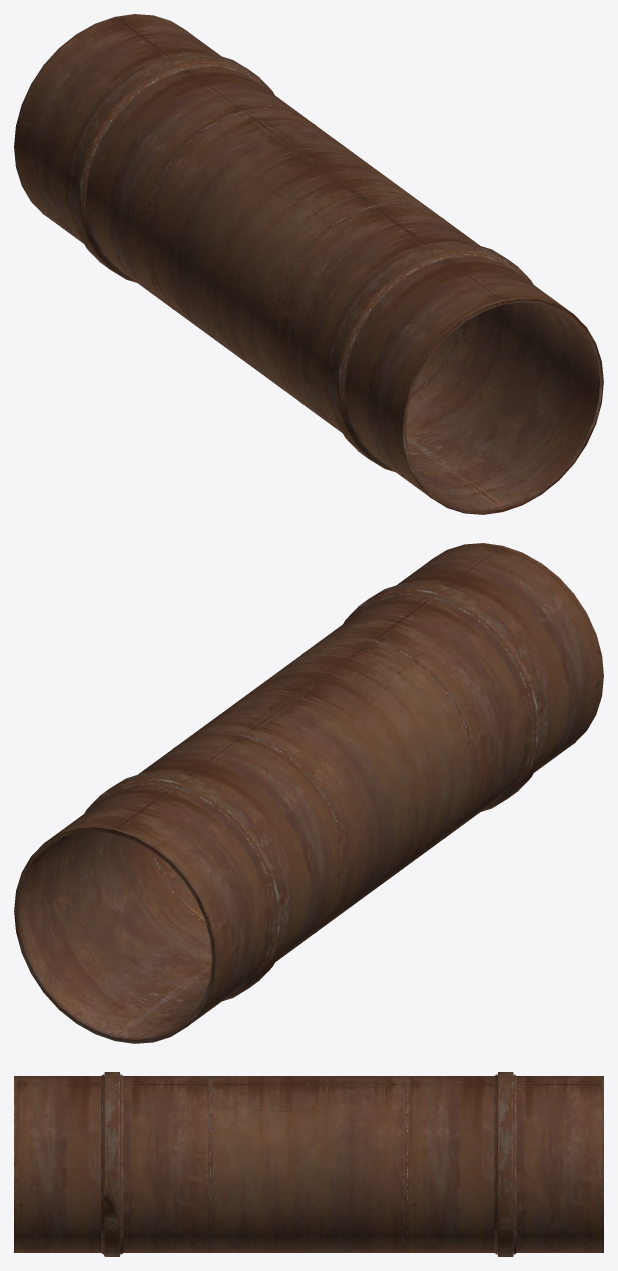
File: pipeline_300x900.glb
The picture shows the model from 3 angles, top to bottom: view 1: azimuth 30°, elevation 25°; view 2: azimuth 150°, elevation 25°; view 3: azimuth 270°, elevation 25°; orthographic projection. The views are drawn at different scales.
Visible parts, largest first — view 1: pipeline_300x900_LOD0; view 2: pipeline_300x900_LOD0; view 3: pipeline_300x900_LOD0.
Boxes of the visible parts, x1=… form: pipeline_300x900_LOD0: x1=14, y1=14, x2=603, y2=514; pipeline_300x900_LOD0: x1=14, y1=543, x2=603, y2=1043; pipeline_300x900_LOD0: x1=14, y1=1072, x2=603, y2=1256.
Size of the model in its own units: 2.82 by 2.82 by 9.
2 materials, 2 textured.
